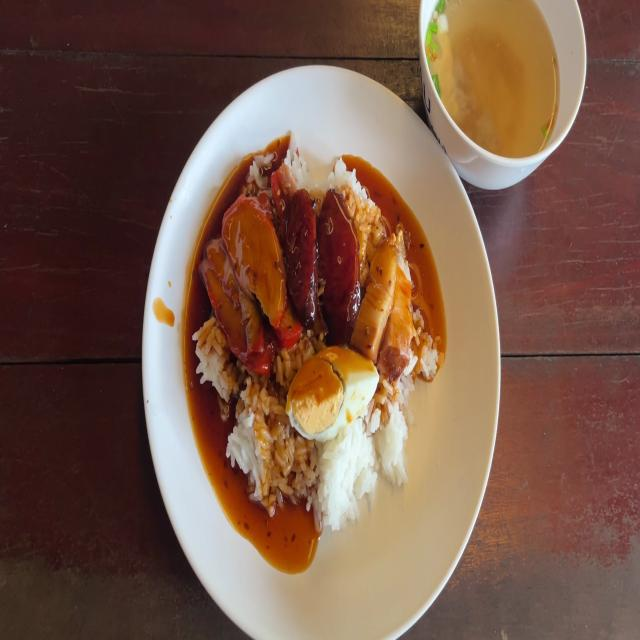01boiled_egg: (286, 348, 378, 441)
01chainese_sausage: (290, 186, 362, 336), (317, 187, 358, 338), (289, 189, 316, 320)
01crispy_pork: (360, 216, 416, 376), (362, 224, 397, 357), (389, 226, 415, 374)
01red_pork: (199, 200, 297, 371), (221, 198, 290, 327), (203, 243, 267, 368)
01red_pork_and_crispy_pork: (198, 146, 438, 538)
01rice: (229, 389, 287, 487), (318, 436, 378, 524), (201, 323, 232, 402), (377, 402, 406, 484), (325, 149, 361, 199), (280, 153, 312, 188)
